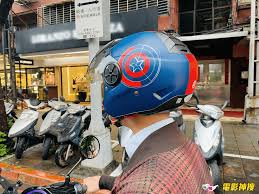helmet: (96, 38, 197, 110)
